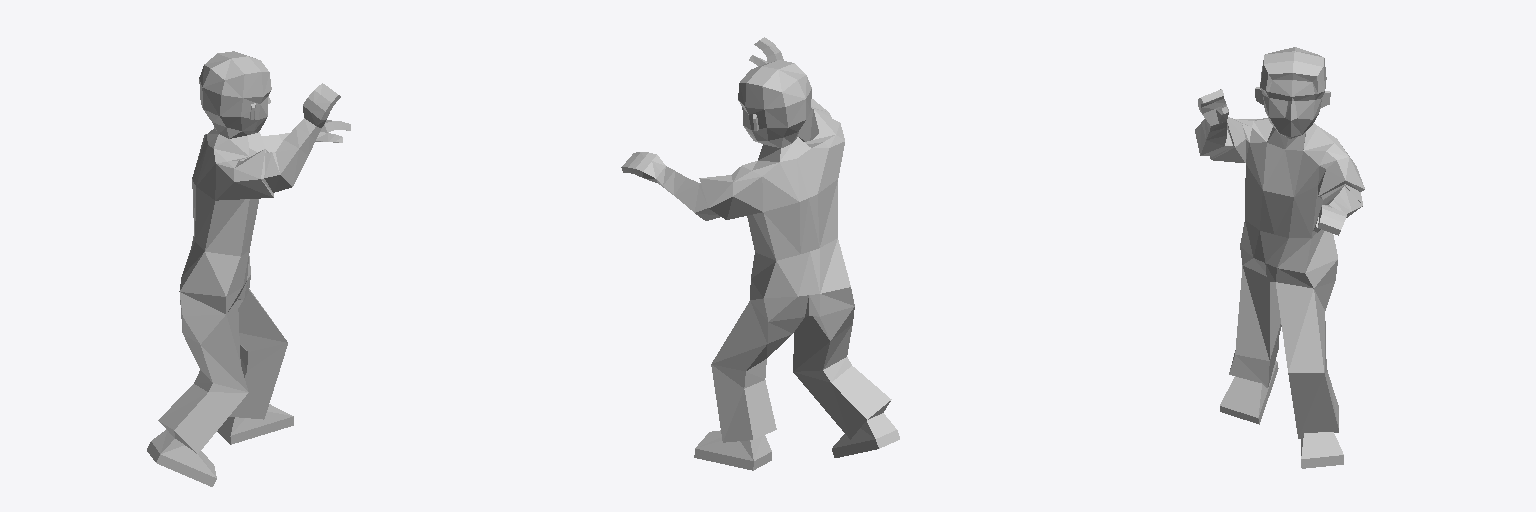
File: zombie_male_attack_0.obj
3 renders of one model, left to right at view 1: azimuth 30°, elevation 25°; view 2: azimuth 150°, elevation 25°; view 3: azimuth 270°, elevation 25°, orthographic.
Size of the model in its own units: 1.07 by 1.73 by 0.682.